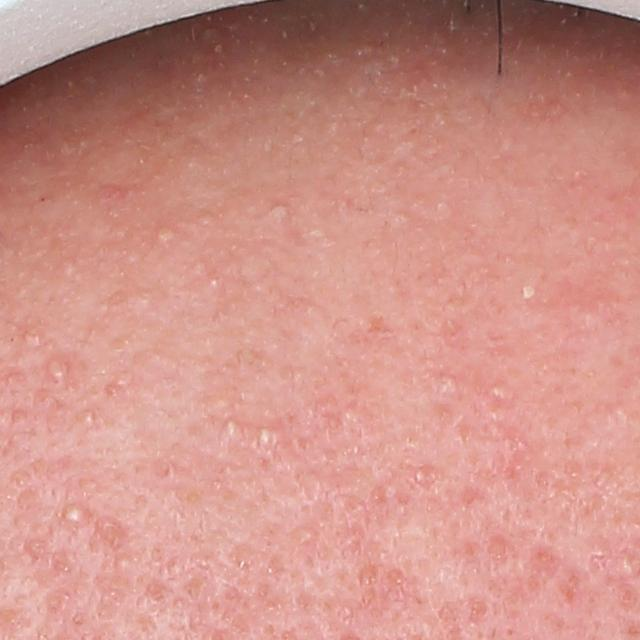comedo: (19, 328, 42, 353), (268, 199, 291, 220), (112, 552, 134, 573), (619, 555, 639, 577), (14, 471, 31, 488), (82, 410, 99, 426), (207, 275, 223, 287), (238, 554, 251, 568)
pustule: (39, 352, 75, 388), (253, 424, 290, 451), (58, 502, 89, 527), (220, 413, 247, 437), (155, 223, 184, 245), (517, 278, 538, 300)
